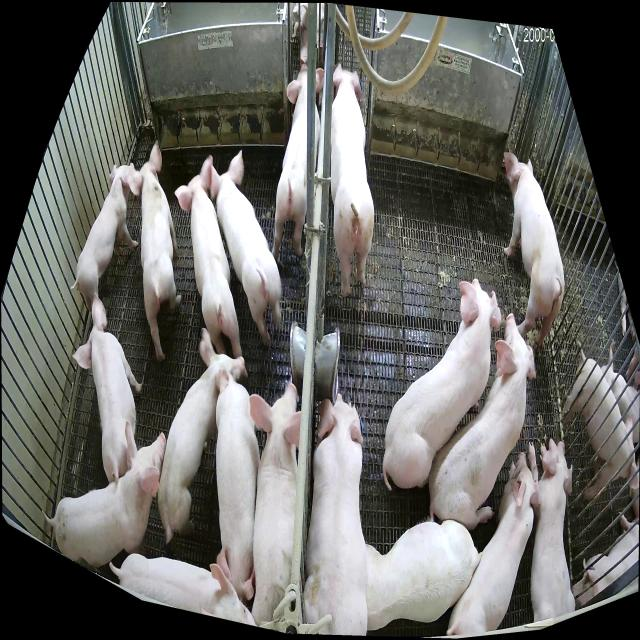pig: (383, 276, 501, 489), (429, 314, 536, 530), (157, 328, 244, 546), (42, 420, 166, 567), (446, 451, 542, 633), (304, 391, 368, 638), (211, 149, 282, 346), (175, 154, 242, 358), (72, 293, 143, 482), (122, 140, 182, 361), (363, 519, 481, 630), (250, 382, 301, 623), (503, 154, 564, 347), (109, 554, 258, 627), (272, 64, 324, 261), (216, 371, 260, 601), (331, 63, 374, 298), (71, 164, 138, 312), (529, 438, 575, 622)
